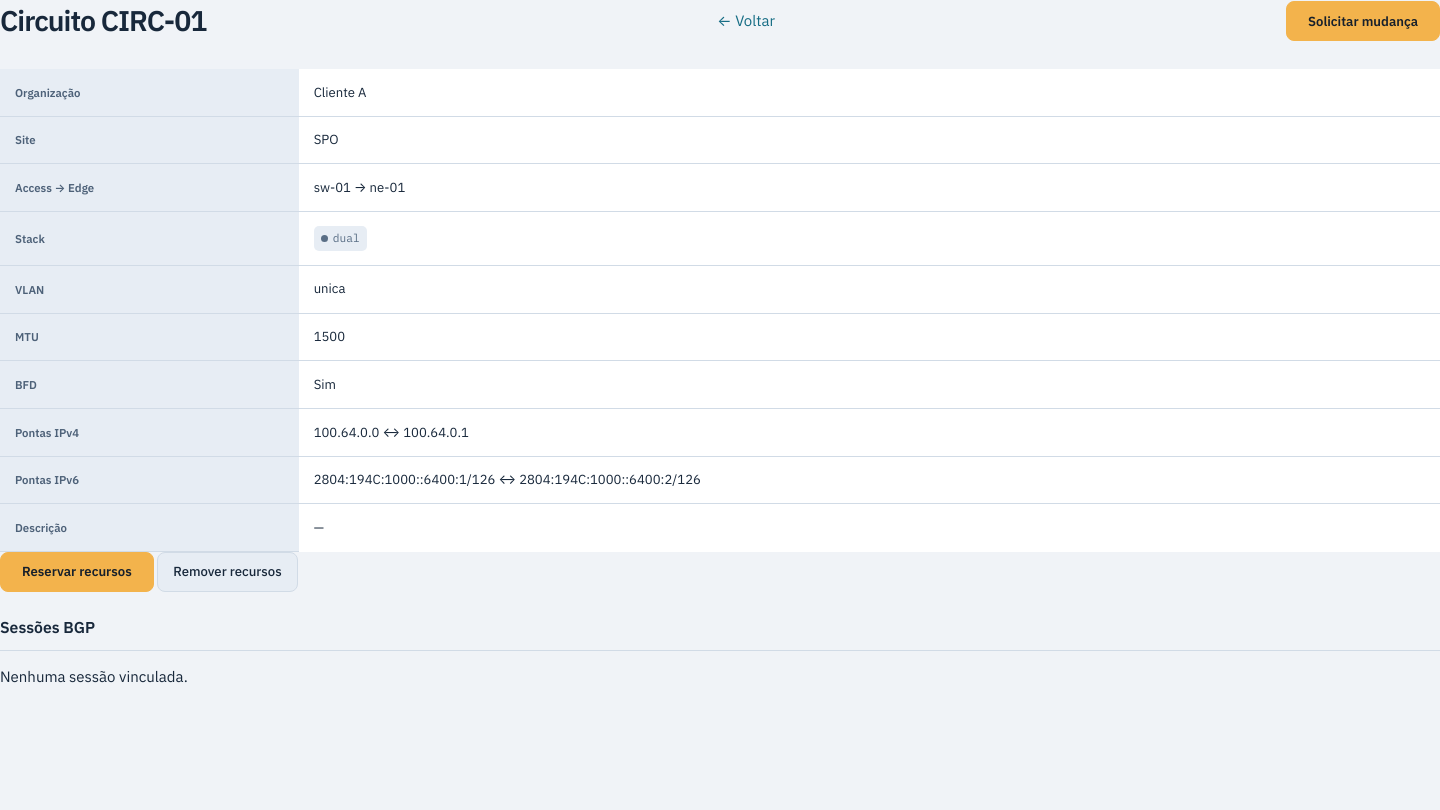
it: CircuitDetail › 409 mantém as reservas e mostra a mensagem do bloqueio
Click the button "Remover recursos": click(227, 572) [157,552,298,592]
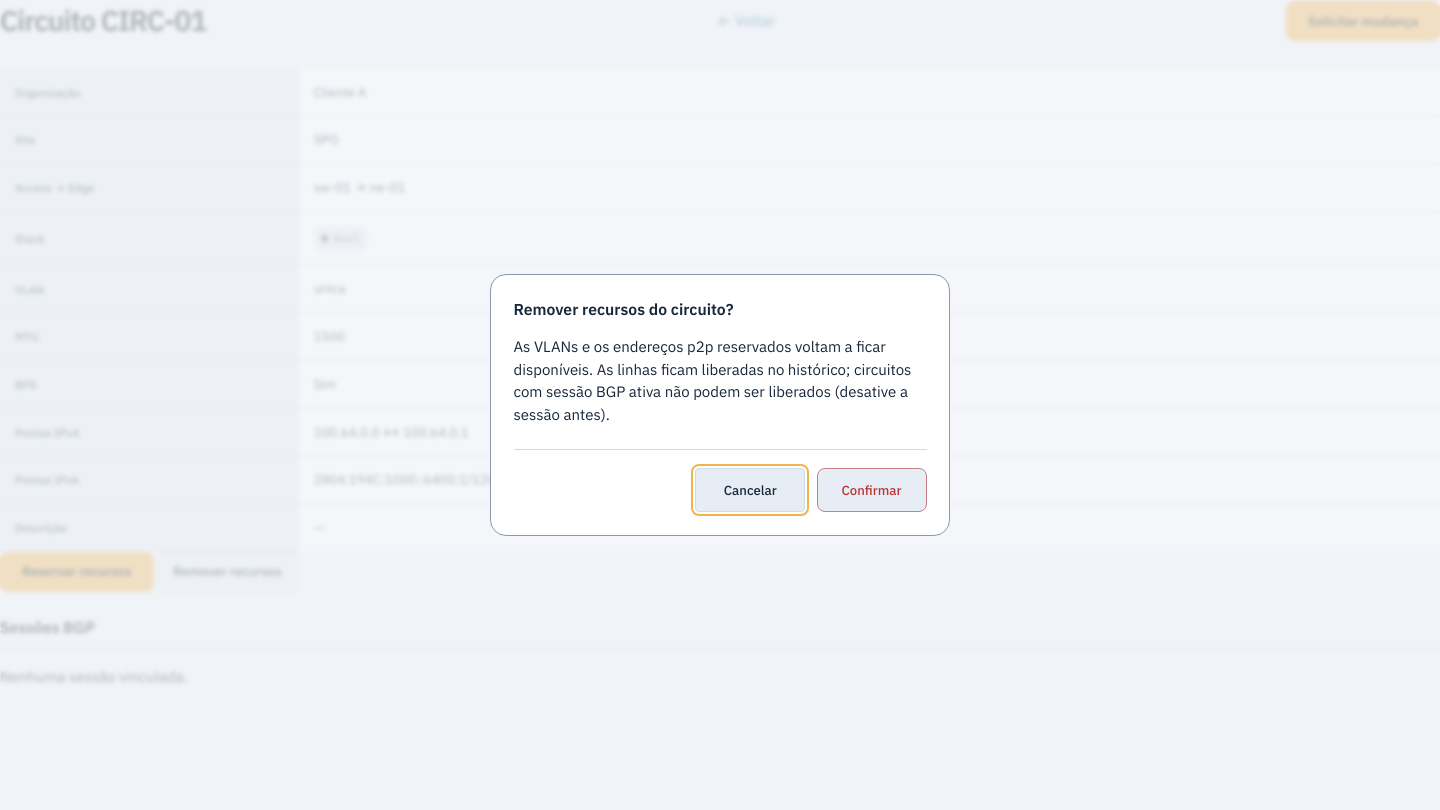
Click the button "Confirmar": click(872, 490) [816,468,926,512]
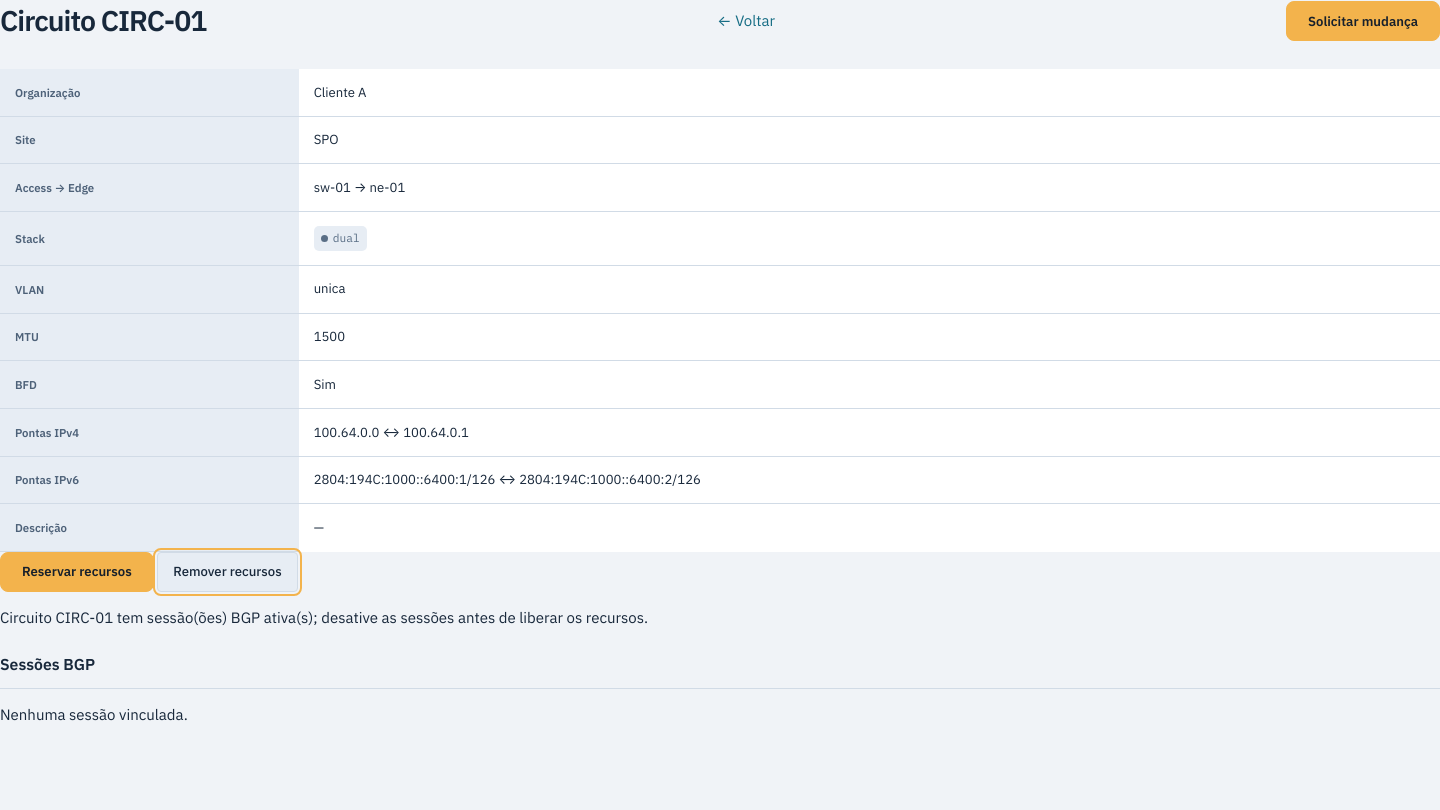
Expected: the button "Remover recursos" is shown, [157,552,298,592]
Expected: the message shows "sessão(ões) BGP ativa", [0,608,648,627]
Expected: the button "Confirmar" is gone
